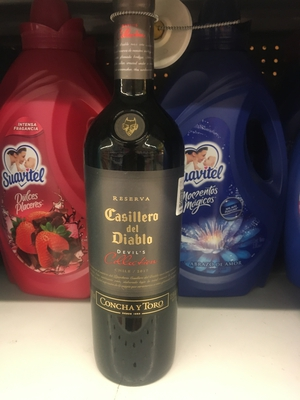casillero del diablo devils collection rojo: (76, 14, 190, 387)
